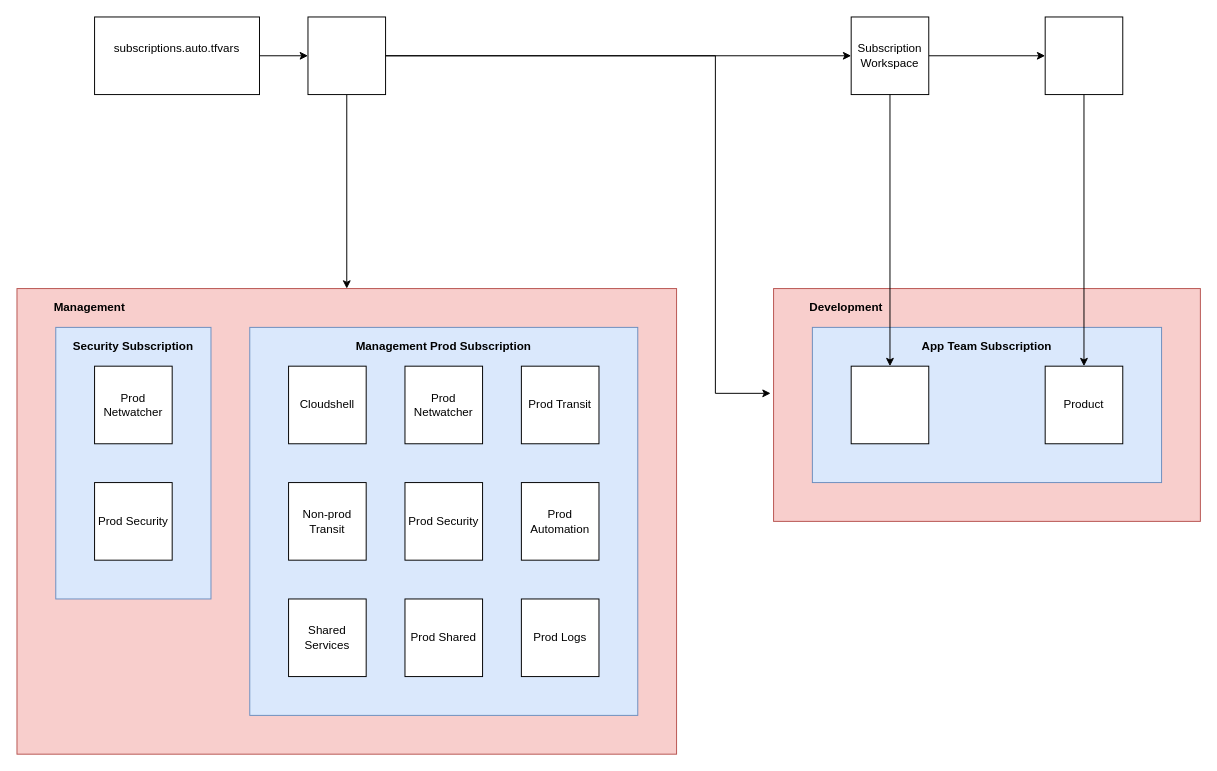
This 1217x771 diagram has some shape labels left out. Here are the shapes that lost their labels. From the top down, the centre of each, then its label:
At point 346,55: "Vending Machine Workspace".
At point 1083,55: "App Team Workspace".
At point 889,404: "Baseline".
